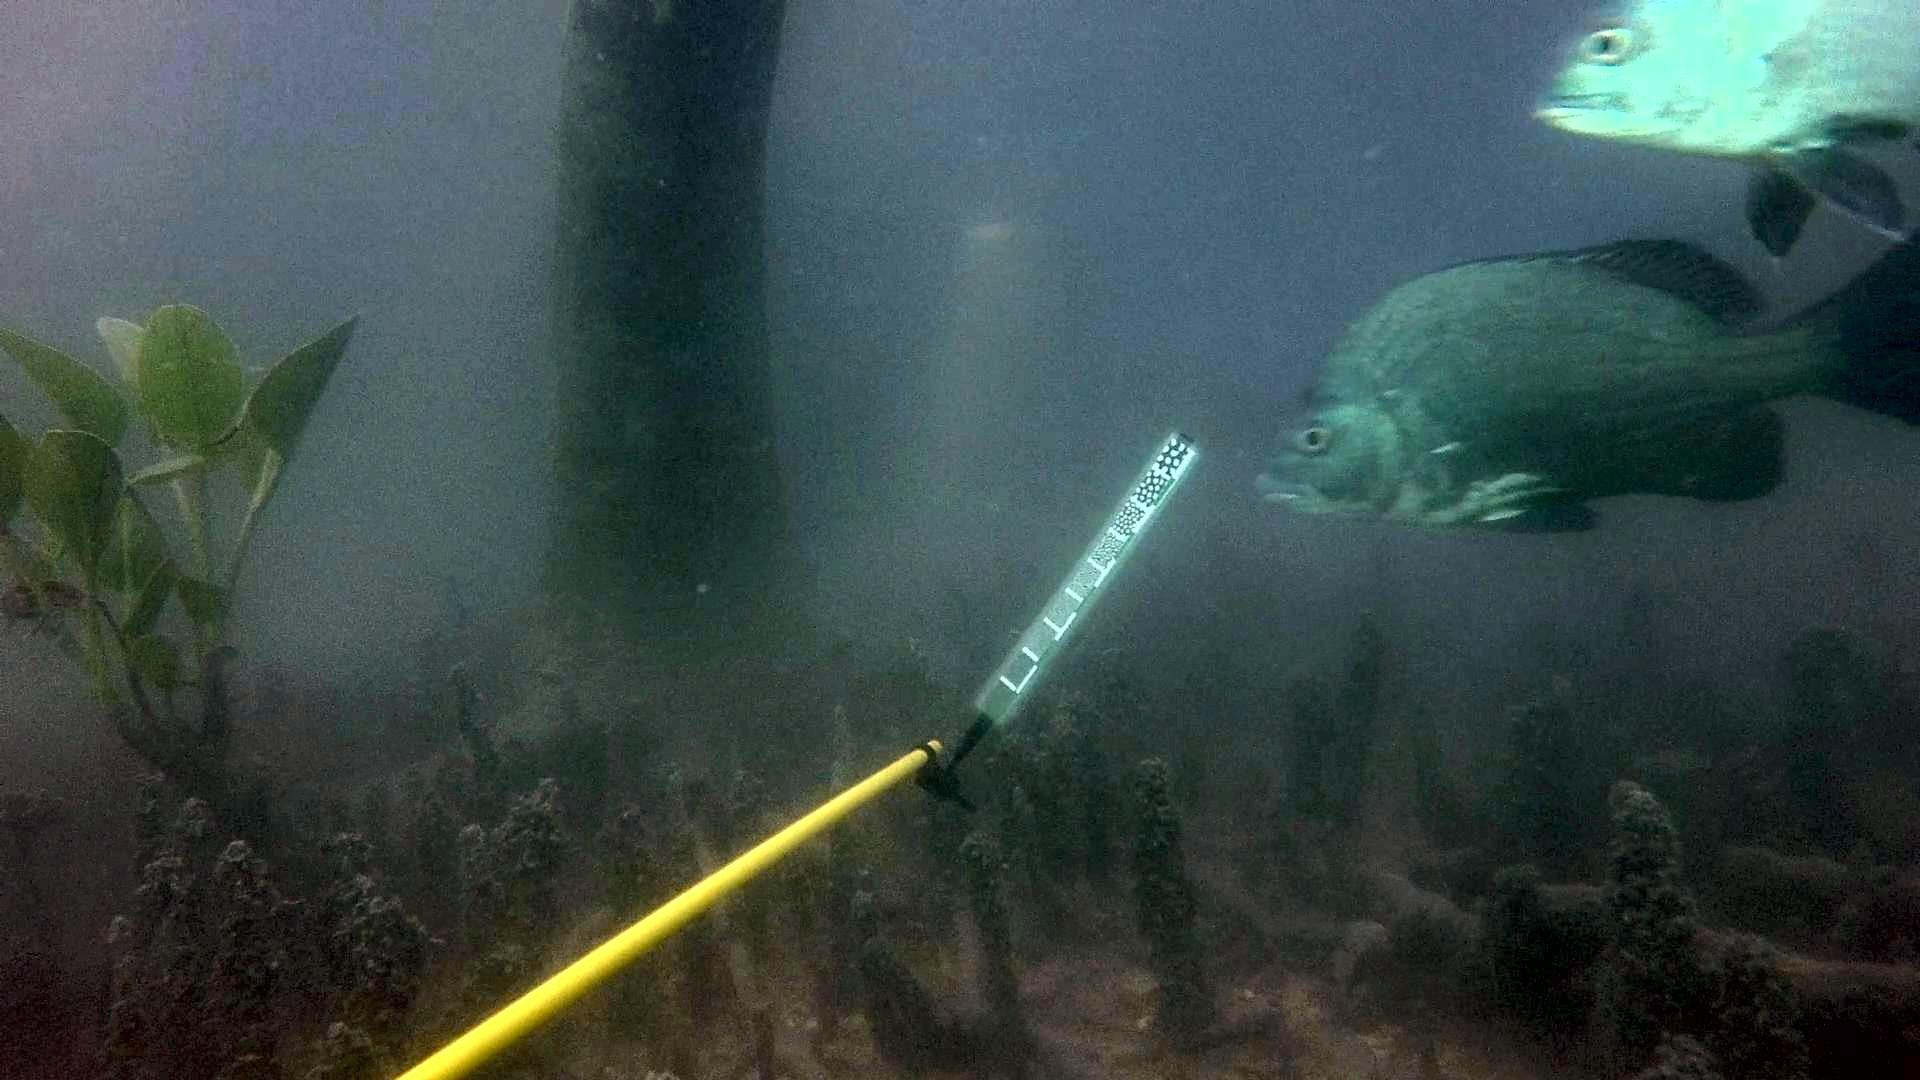acanthopagrus palmaris: (1260, 223, 1920, 544), (1545, 0, 1920, 267)
